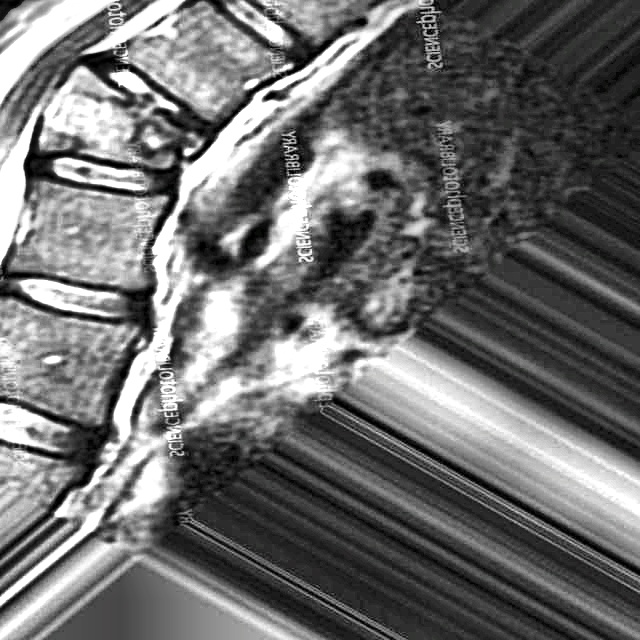Comminuted: (31, 46, 210, 194)
